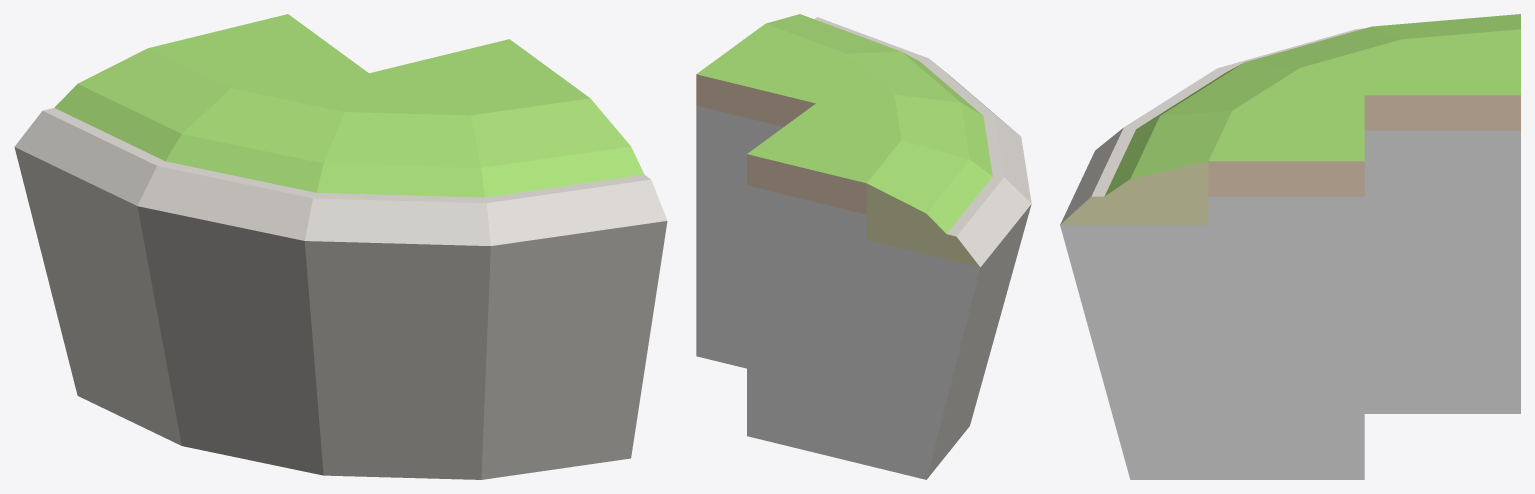
Rendered from Basic_Curve_Outer_3x3_Top.glb.
3 views of the same model, side by side, from view 1: azimuth 30°, elevation 25°; view 2: azimuth 150°, elevation 25°; view 3: azimuth 270°, elevation 25° (orthographic). The views are drawn at different scales.
Parts seen in each view (by area): view 1: Basic_Curve_Outer_3x3_Top; view 2: Basic_Curve_Outer_3x3_Top; view 3: Basic_Curve_Outer_3x3_Top.
Part boxes in pixels (x1,y1,x2,y2): Basic_Curve_Outer_3x3_Top: (14,14,667,479); Basic_Curve_Outer_3x3_Top: (696,14,1031,479); Basic_Curve_Outer_3x3_Top: (1060,14,1520,479).
Size of the model in its own units: 295 by 225 by 295.
